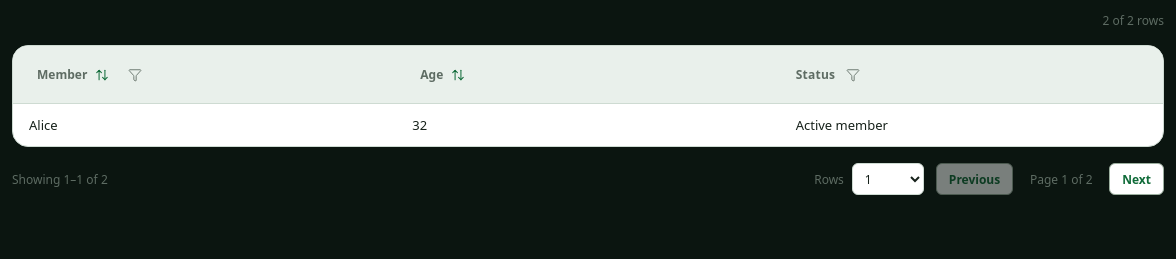
DataTable › paginates rows and resets to the first page after a page-size change
Expected: the text "Alice" is shown, 13,104 -> 396,146
Expected: the text "Bob" is not shown
Click the button "Next": [1137, 179] box 1109,163 -> 1164,195
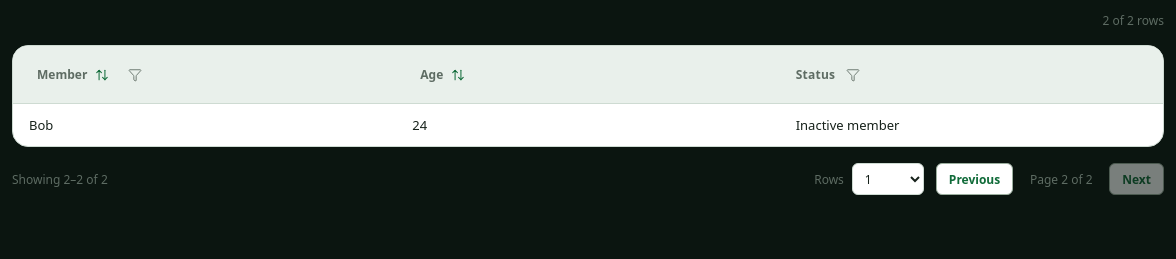
Now the text "Bob" is shown, box 13,104 -> 396,146
Now the text "Page 2 of 2" is shown, box 1030,170 -> 1093,188
Select "10" in the dropdown named "Rows per page": [888, 179] box 852,163 -> 924,195
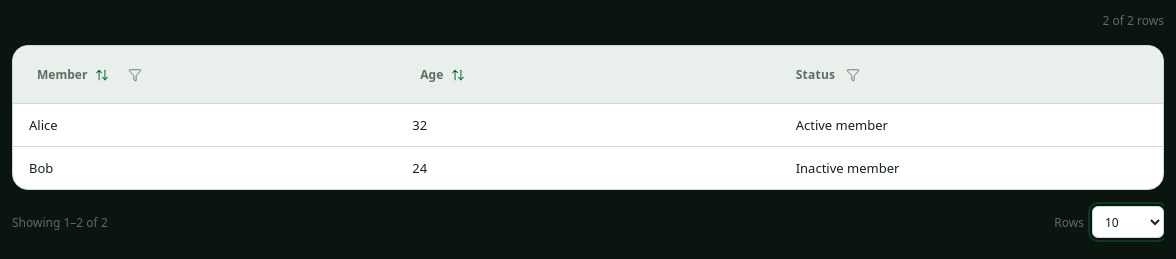
Now the text "Bob" is shown, box 13,146 -> 396,189
Now the text "Alice" is shown, box 13,104 -> 396,146
